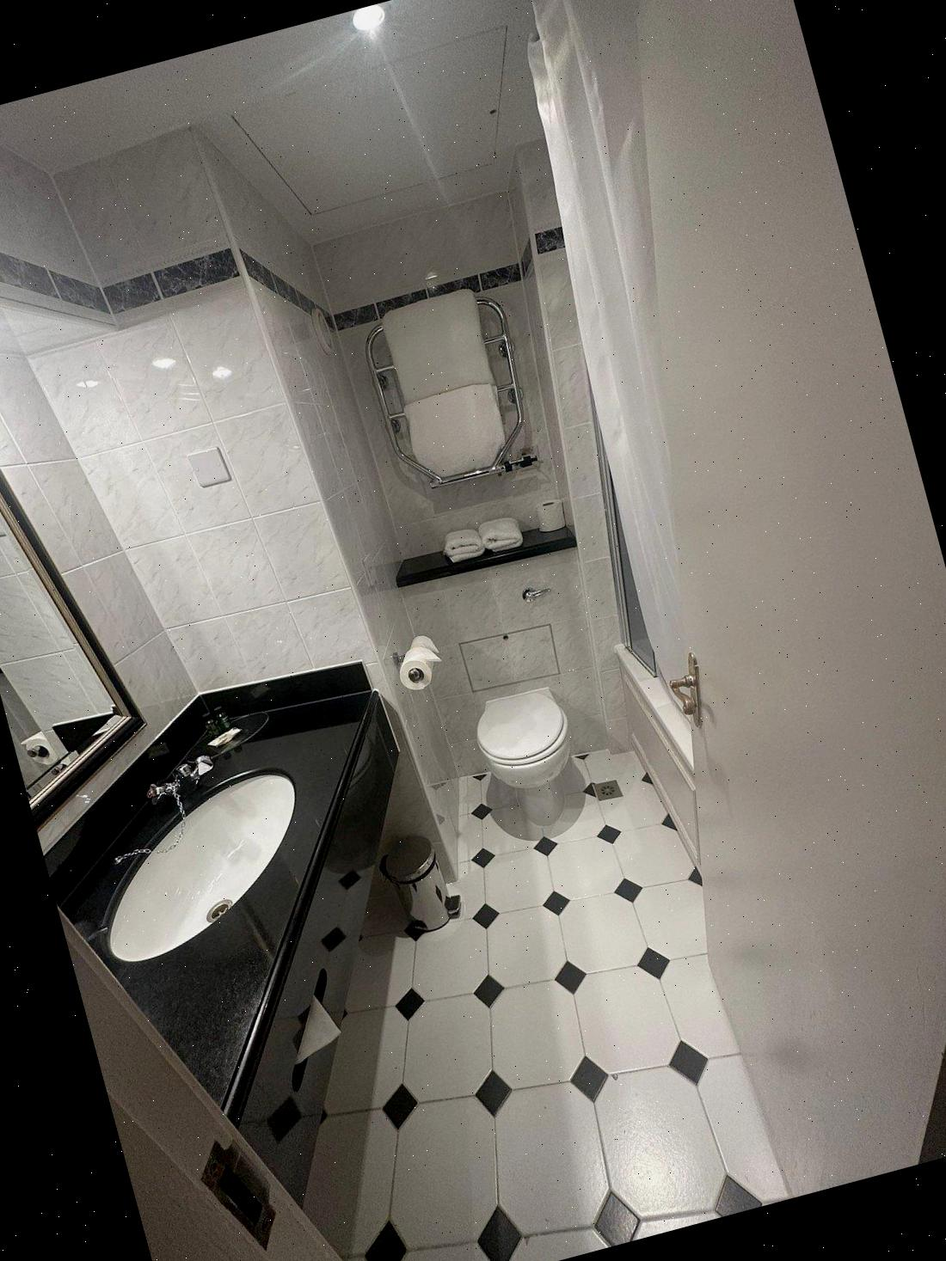clean_floor: (291, 740, 779, 1261)
clean_sink: (53, 728, 338, 988)
clean_toilet: (0, 0, 946, 1261)
folded_towel: (366, 270, 546, 498), (433, 507, 533, 571)
